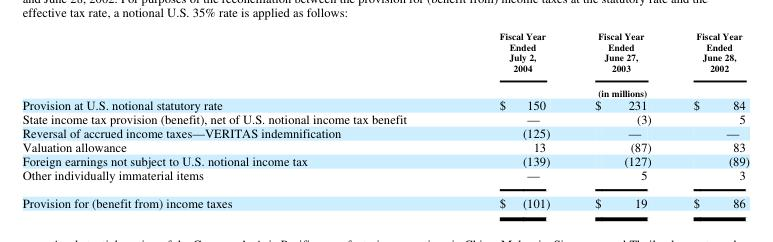table: (21, 29, 748, 210)
table column: (21, 29, 452, 210), (452, 29, 571, 210), (571, 29, 671, 210), (671, 29, 748, 210)
table column header: (21, 29, 748, 97)
table row: (21, 29, 748, 79), (21, 166, 748, 188), (21, 188, 748, 210), (21, 79, 748, 97), (21, 97, 748, 111), (21, 124, 748, 138), (21, 138, 748, 152), (21, 152, 748, 166), (21, 111, 748, 124)
table spanning cell: (452, 79, 748, 97)
